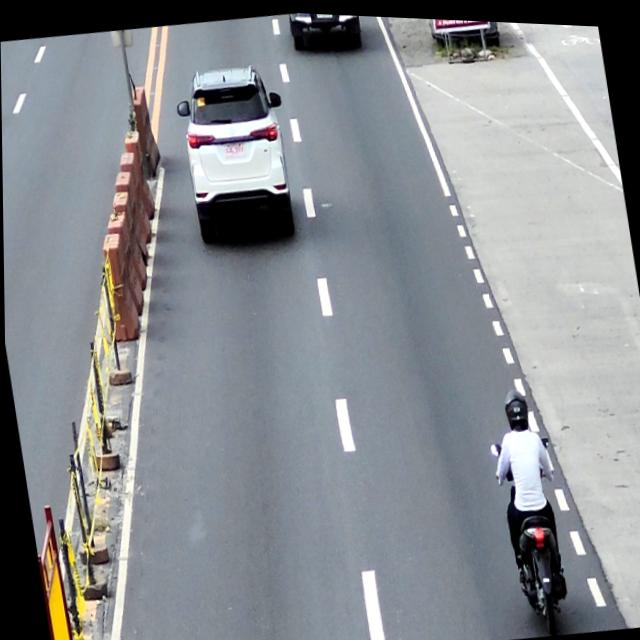Car: (172, 57, 303, 248), (288, 10, 364, 53)
License-Plate: (223, 140, 244, 156), (316, 11, 333, 17)
Motorcycle: (488, 428, 577, 636)
